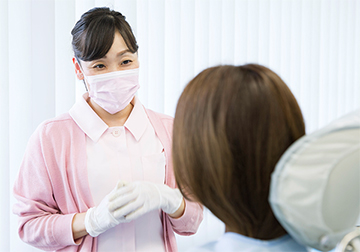mask: (84, 68, 141, 113)
